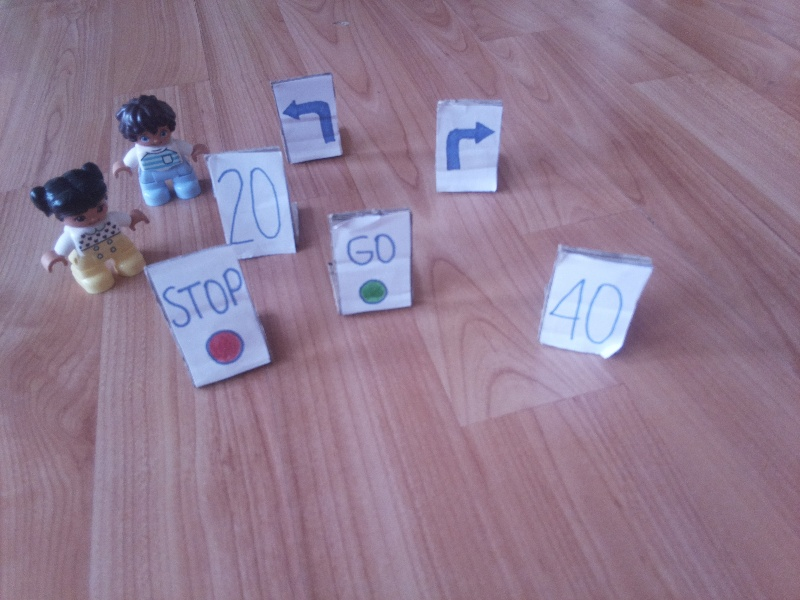20: (216, 164, 287, 244)
40: (554, 269, 621, 342)
go: (342, 227, 403, 304)
person: (23, 163, 148, 292), (110, 87, 204, 200)
stop: (163, 265, 249, 363)
turn left: (281, 92, 343, 152)
turn right: (442, 117, 495, 179)
